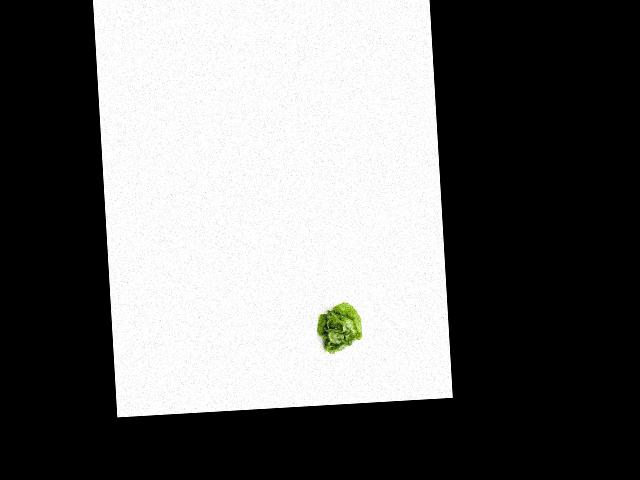lettuce: (312, 300, 367, 355)
